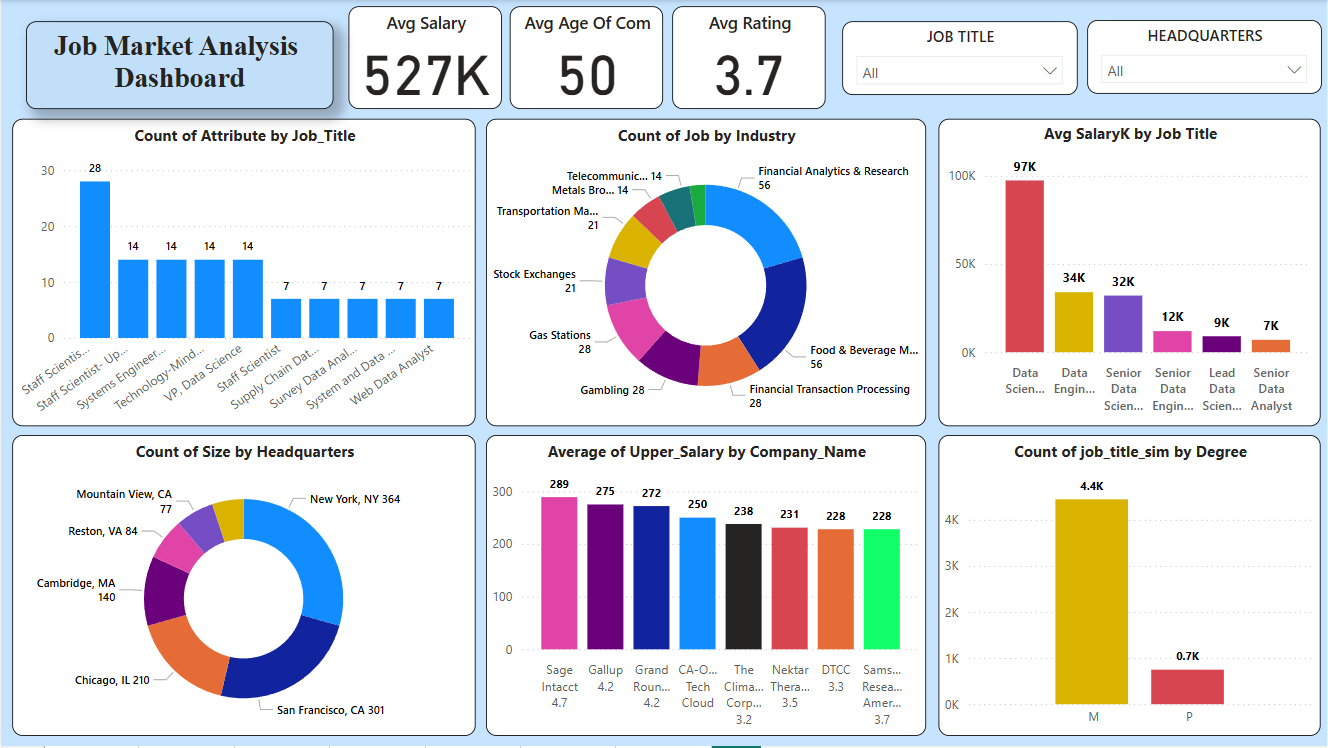

The dashboard page shown, as its layout file describes it:
{"tool":"powerbi","page":{"name":"Page 1","canvas":[1280,720],"ordinal":0},"visuals":[{"type":"card","title":"Avg Age Of Com","fields":{"Values":["Avg(Job analysis Data.Age)"]},"box":[491,6,148.4,98.9],"z":0},{"type":"card","title":"Avg Salary ","fields":{"Values":["Sum(Job analysis Data.Avg_SalaryK)"]},"box":[335.4,6,148.4,98.9],"z":1000},{"type":"card","title":"Avg Rating","fields":{"Values":["Avg(Job analysis Data.Rating)"]},"box":[647.9,6,148.4,98.9],"z":2000},{"type":"donutChart","title":"Count of Job by Industry","fields":{"Category":["Job analysis Data.Industry"],"Y":["CountNonNull(Job analysis Data.Job_Title)"]},"box":[468.1,114.6,424.7,296.8],"z":3000},{"type":"columnChart","title":"Avg SalaryK by Job Title","fields":{"Category":["Job analysis Data.Job_Title"],"Y":["Sum(Job analysis Data.Avg_SalaryK)"]},"box":[904.8,114.6,369.2,296.8],"z":4000},{"type":"columnChart","fields":{"Category":["Job analysis Data.Job_Title"],"Y":["CountNonNull(Job analysis Data.Attribute)"]},"box":[10.9,114.6,447.6,296.8],"z":5000},{"type":"donutChart","fields":{"Y":["CountNonNull(Job analysis Data.Size)"],"Category":["Job analysis Data.Headquarters"]},"box":[10.9,419.8,447.6,290.8],"z":6000},{"type":"clusteredColumnChart","fields":{"Category":["Job analysis Data.Company_Name"],"Y":["Avg(Job analysis Data.Upper_Salary)"]},"box":[468.1,419.8,424.7,290.8],"z":7000},{"type":"columnChart","fields":{"Category":["Job analysis Data.Degree"],"Y":["CountNonNull(Job analysis Data.job_title_sim)"]},"box":[904.8,419.8,369.2,290.8],"z":8000},{"type":"textbox","box":[24.1,20.5,296.8,84.5],"z":9000},{"type":"slicer","title":"JOB TITLE","fields":{"Values":["Job analysis Data.Job_Title"]},"box":[811.9,20.5,226.8,71.2],"z":10000},{"type":"slicer","title":"HEADQUARTERS","fields":{"Values":["Job analysis Data.Headquarters"]},"box":[1048.4,19.3,226,71.2],"z":11000}]}

Visuals, with their boxes in screenshot pixels (x1, y1, x2, y2), scaled from the page's 1280x720 canvas onto the 1328x748 screenshot:
"Avg Age Of Com" card: (509, 6, 663, 109)
"Avg Salary " card: (348, 6, 502, 109)
"Avg Rating" card: (672, 6, 826, 109)
"Count of Job by Industry" donutChart: (486, 119, 926, 427)
"Avg SalaryK by Job Title" columnChart: (939, 119, 1322, 427)
columnChart - Job analysis Data.Job_Title x CountNonNull(Job analysis Data.Attribute): (11, 119, 476, 427)
donutChart - CountNonNull(Job analysis Data.Size) x Job analysis Data.Headquarters: (11, 436, 476, 738)
clusteredColumnChart - Job analysis Data.Company_Name x Avg(Job analysis Data.Upper_Salary): (486, 436, 926, 738)
columnChart - Job analysis Data.Degree x CountNonNull(Job analysis Data.job_title_sim): (939, 436, 1322, 738)
textbox: (25, 21, 333, 109)
"JOB TITLE" slicer: (842, 21, 1078, 95)
"HEADQUARTERS" slicer: (1088, 20, 1322, 94)
